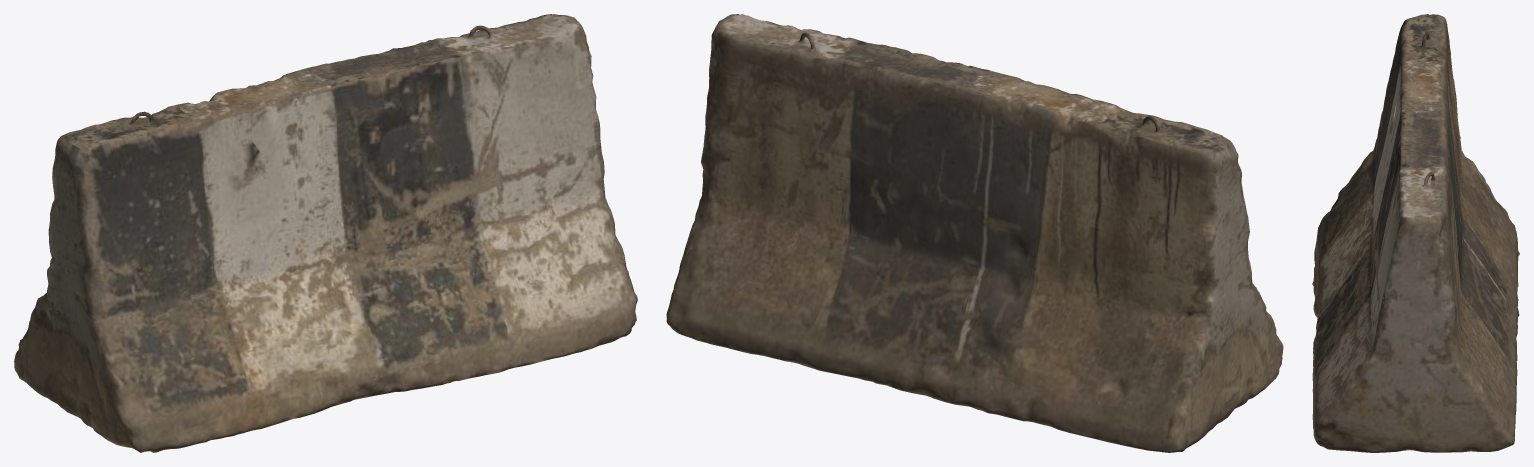
File: ph_concrete_road_barrier.glb
3 renders of one model, left to right at view 1: azimuth 30°, elevation 25°; view 2: azimuth 150°, elevation 25°; view 3: azimuth 270°, elevation 25°, orthographic. The views are drawn at different scales.
Visible parts, largest first — view 1: concrete_road_barrier; view 2: concrete_road_barrier; view 3: concrete_road_barrier.
Part boxes in pixels (x1,y1,x2,y2): concrete_road_barrier: (14, 14, 637, 452); concrete_road_barrier: (666, 14, 1283, 452); concrete_road_barrier: (1312, 14, 1519, 452).
Size of the model in its own units: 1.55 by 0.8309 by 0.6387.
Materials: 1 (1 with a texture image).
